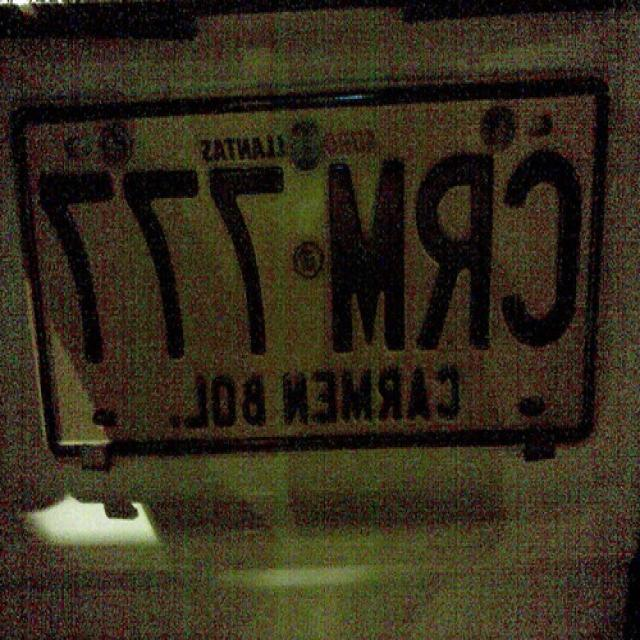placas: (31, 133, 585, 376)
